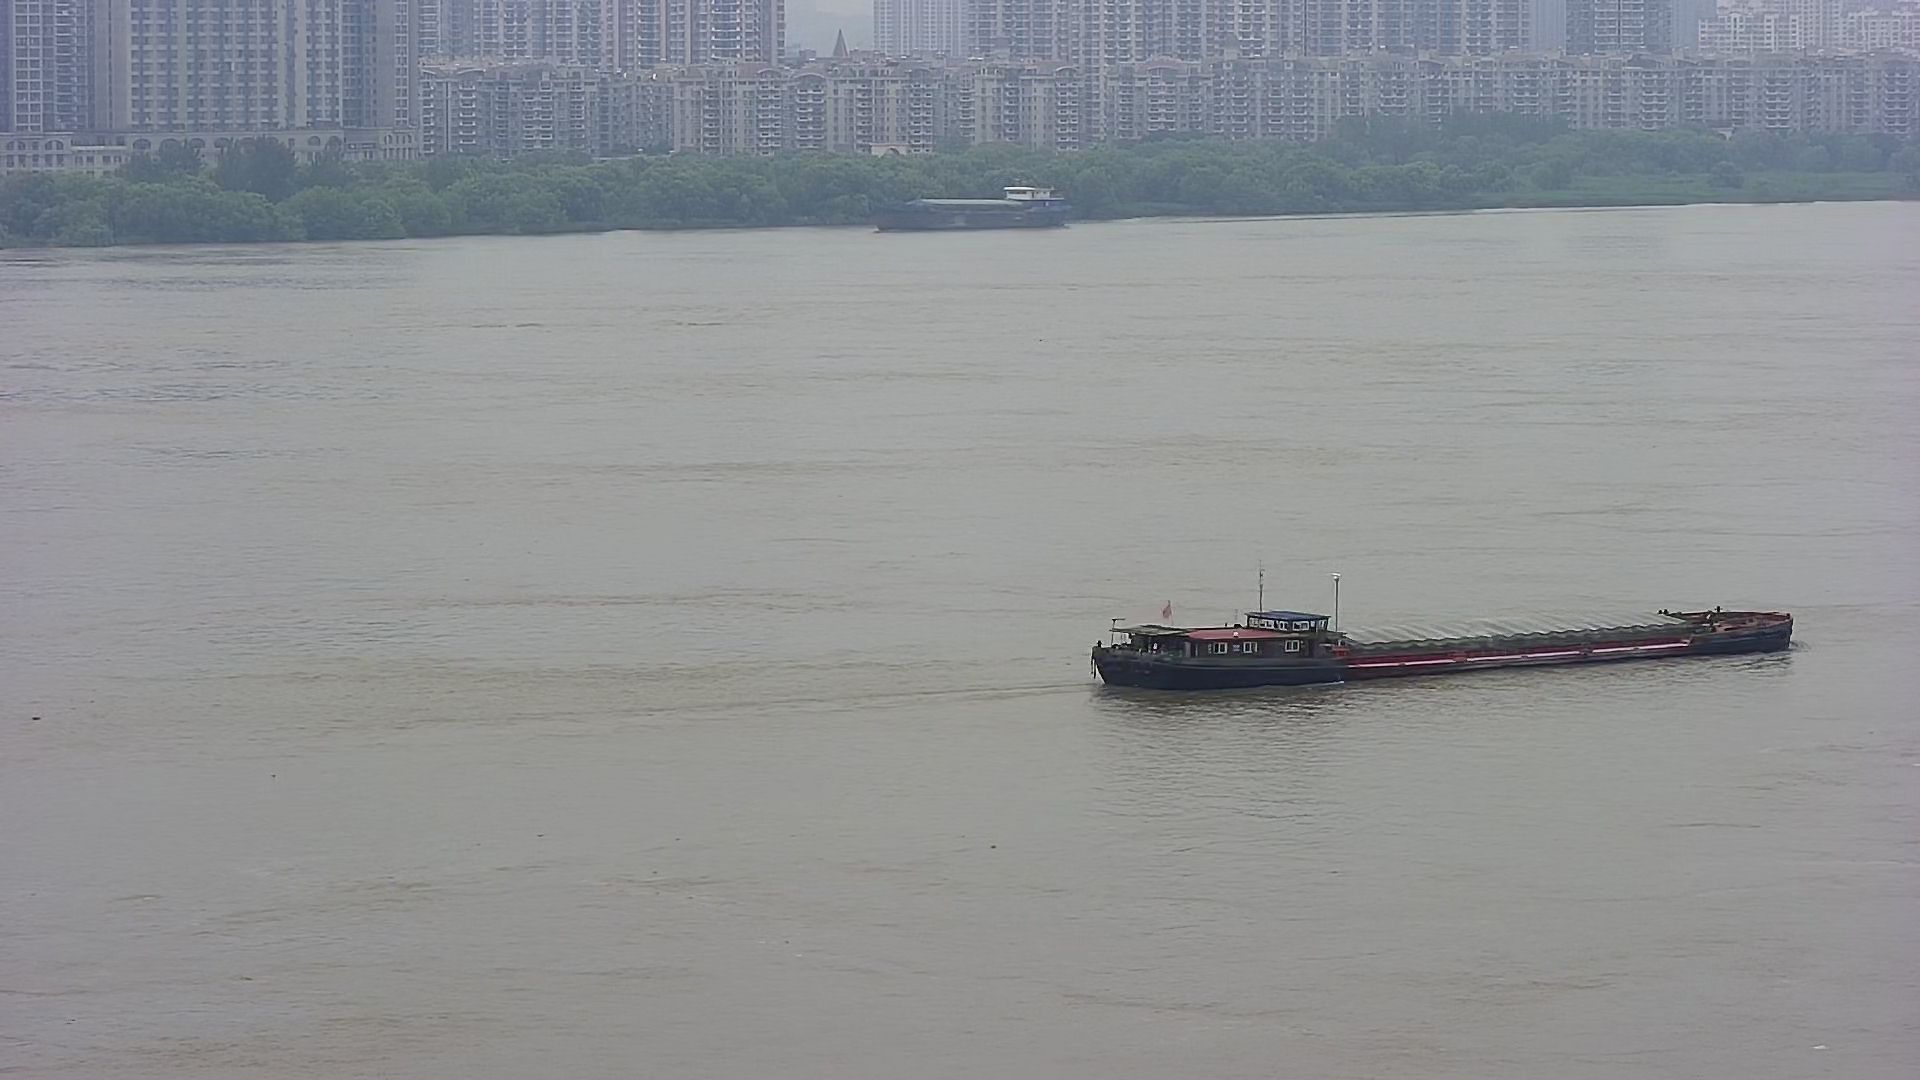ship: (1081, 574, 1803, 702), (864, 160, 1083, 237)
